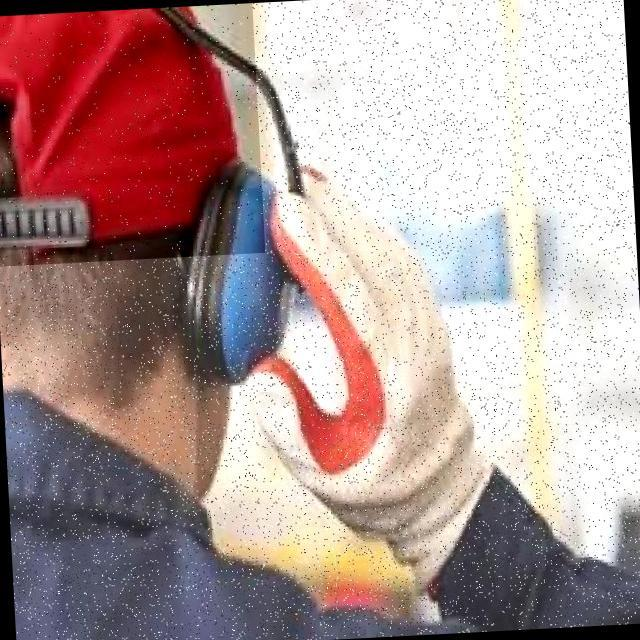Gloves: (234, 144, 538, 609)
Helmet: (0, 3, 265, 267)
